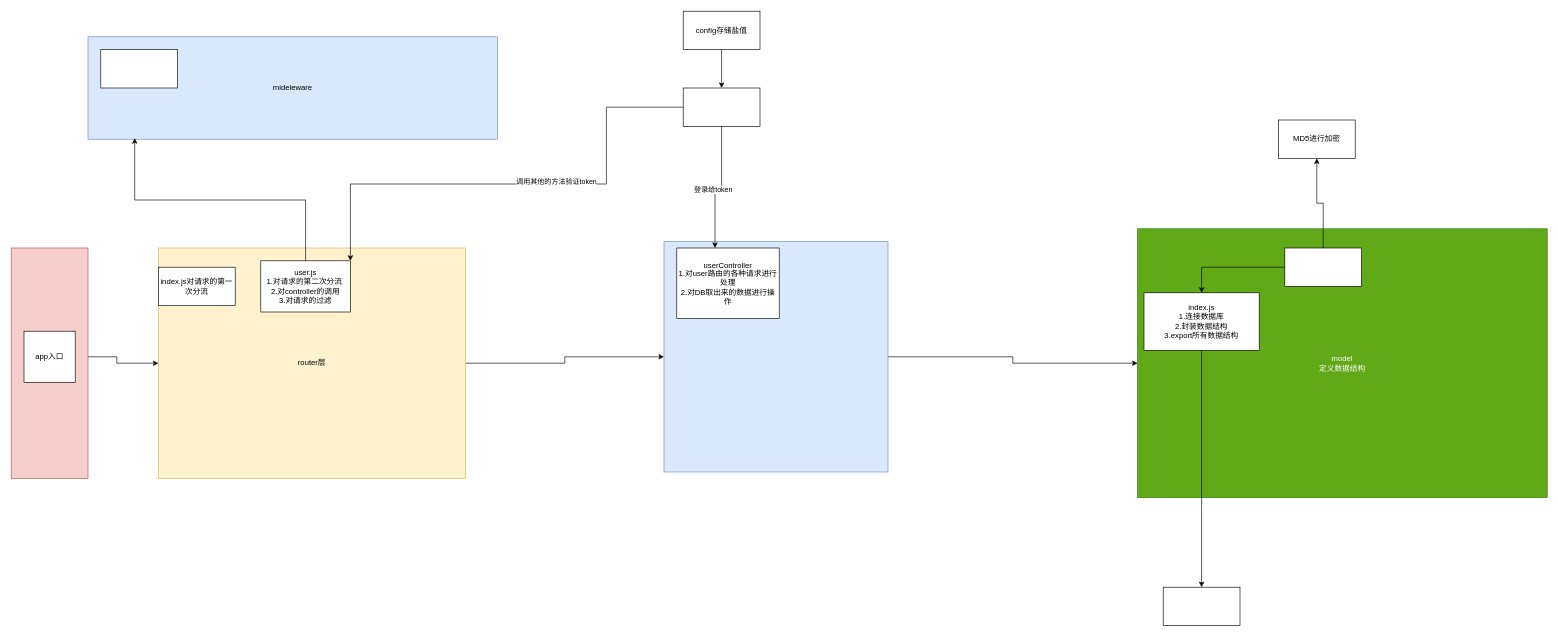
This 1558x637 diagram has some shape labels left out. Here are the shapes that lost their labels. From the top down, the box of each, then its label:
(100, 49, 178, 88): 验证器，对登录和注册进行后盾和数据库验证
(683, 87, 760, 126): JWT
(1284, 247, 1362, 286): userModel 对数据格式进行定义
(663, 241, 888, 472): controller 控制业务逻辑
(1163, 587, 1240, 626): ,DB存储真正的数据
